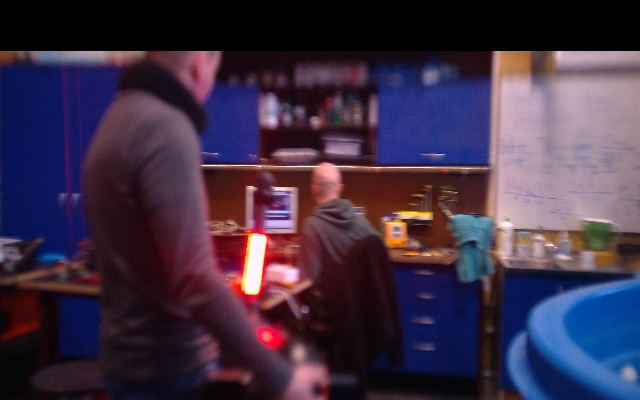red: (241, 232, 268, 298)
